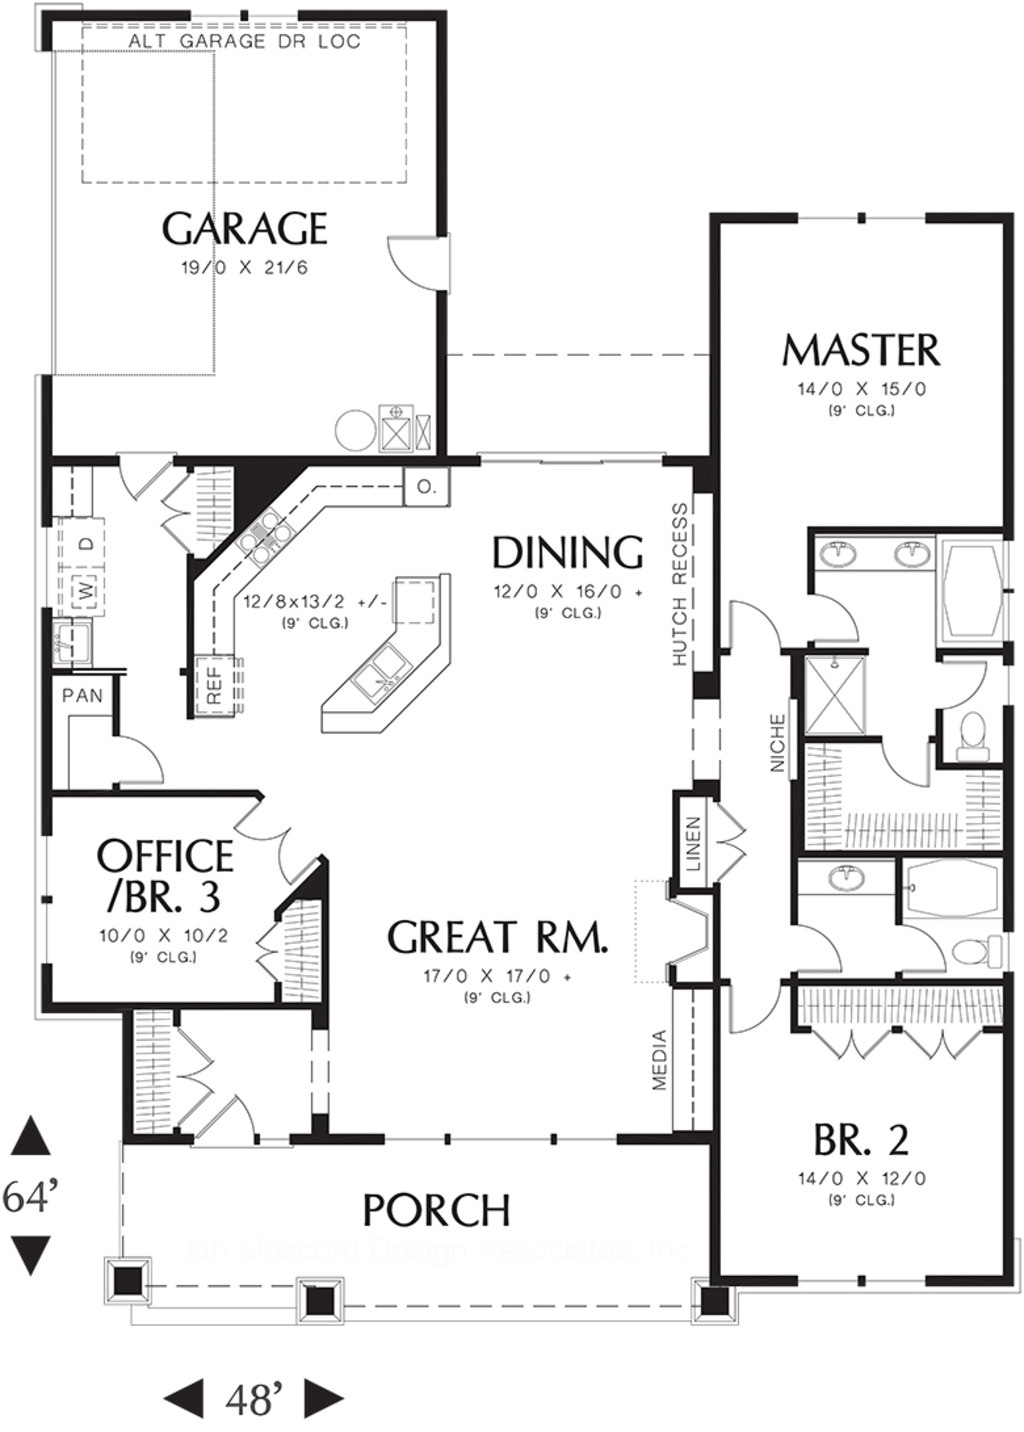door: (231, 776, 326, 884), (163, 1017, 217, 1129), (787, 581, 875, 646), (380, 224, 454, 296), (708, 798, 760, 892), (724, 979, 791, 1049), (113, 442, 182, 509), (900, 1016, 982, 1068), (721, 594, 791, 655), (803, 1011, 893, 1057), (110, 724, 168, 792), (880, 733, 941, 796), (928, 657, 1002, 707), (158, 475, 199, 563), (791, 913, 852, 966), (199, 1098, 267, 1146), (245, 924, 293, 985), (893, 924, 954, 972)
kitchen_bar: (313, 574, 463, 741)
large_sink: (950, 713, 997, 773), (958, 935, 1017, 979)
small_sink: (808, 542, 932, 579), (795, 855, 889, 900)
tub: (924, 536, 1006, 642), (895, 859, 980, 953)
